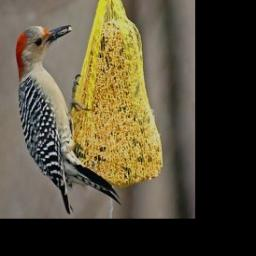Woodpecker: (1, 16, 126, 212)
